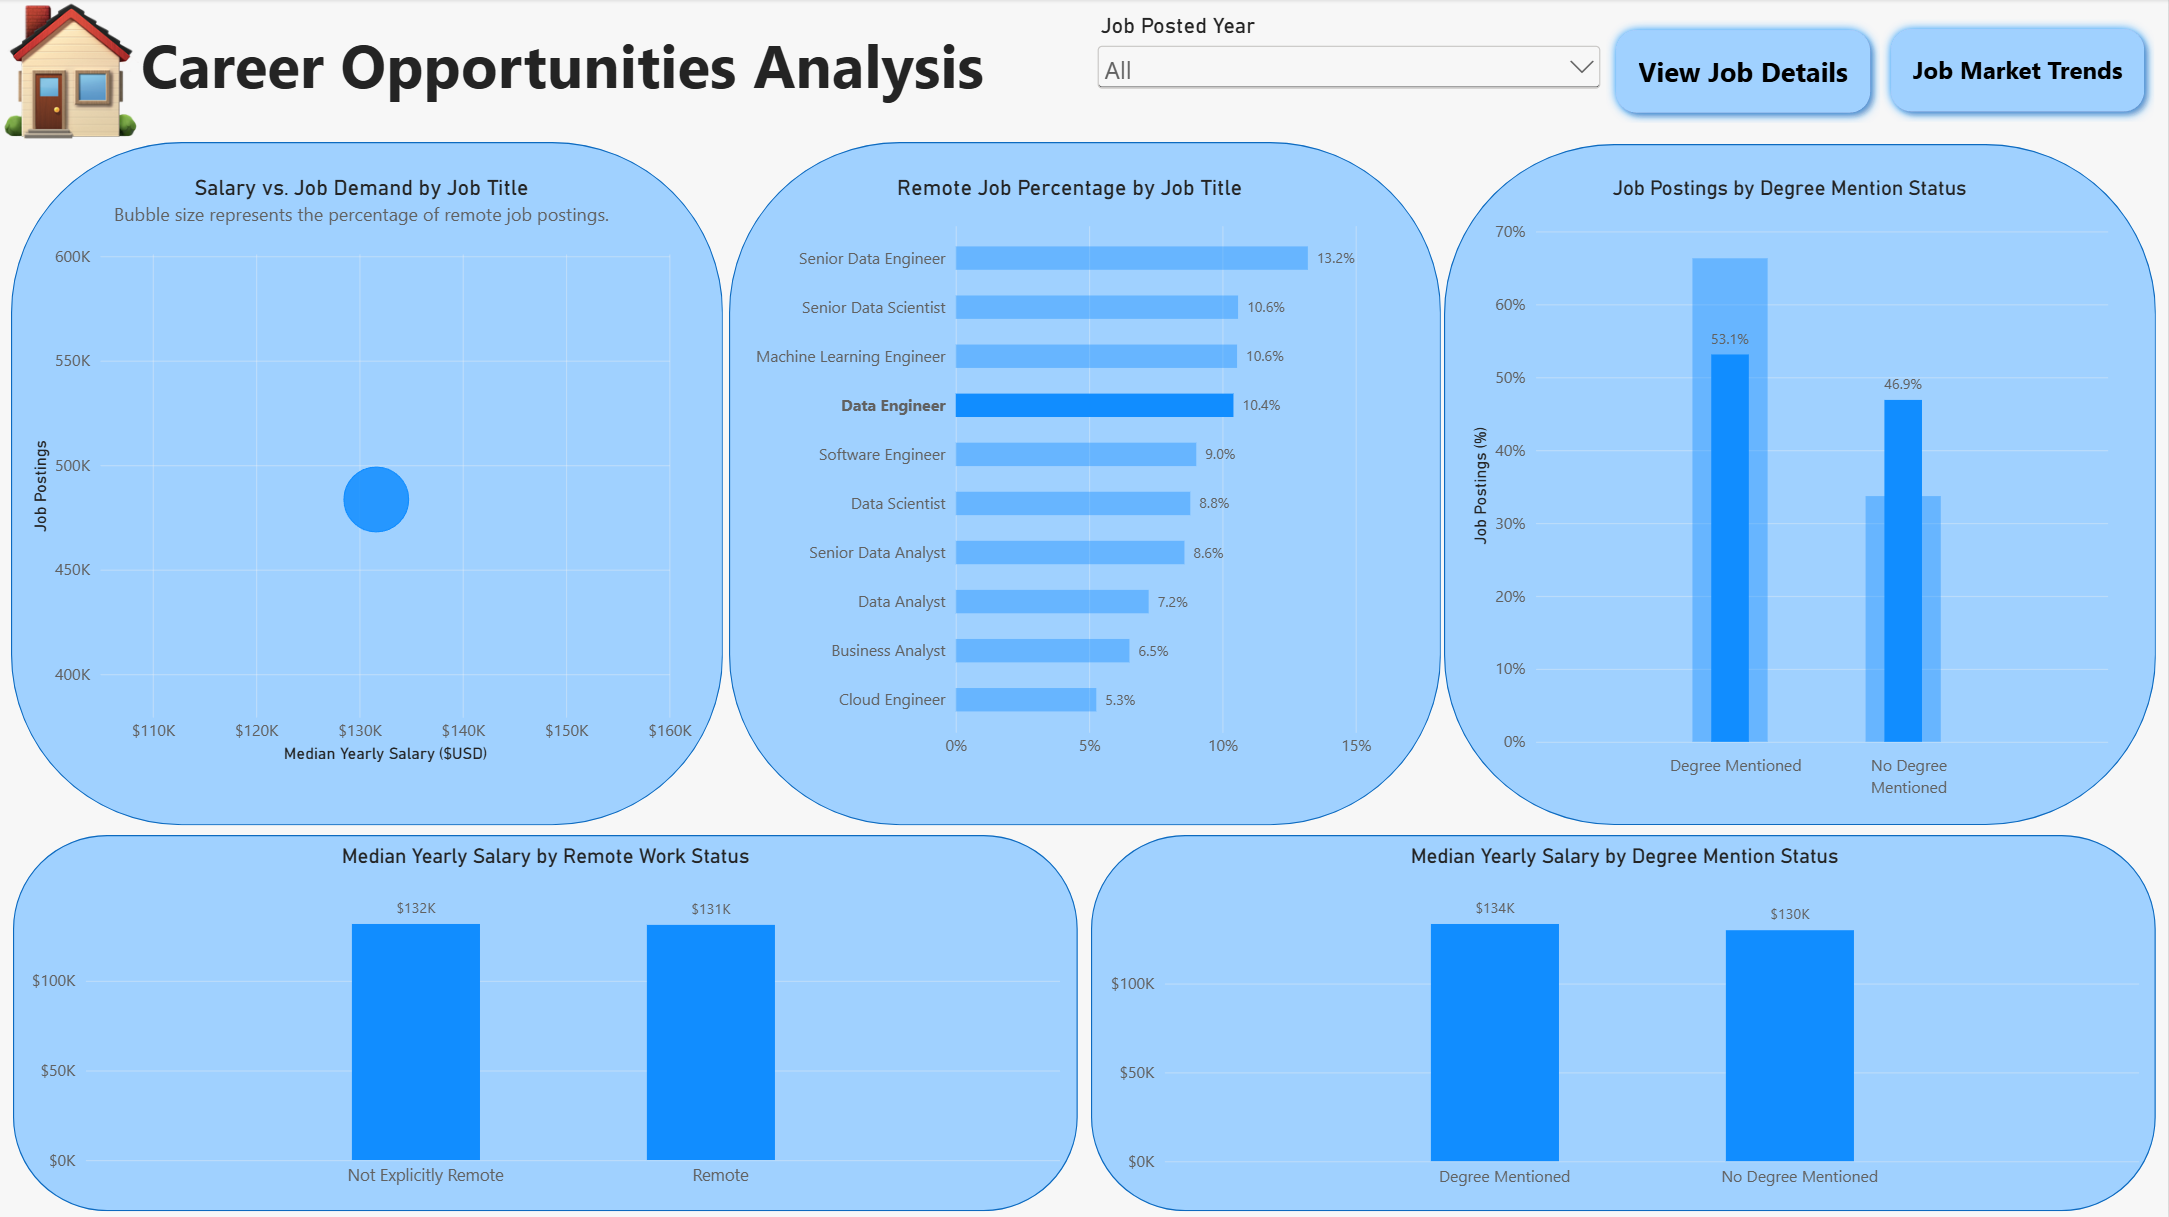

The dashboard page shown, as its layout file describes it:
{"tool":"powerbi","page":{"name":"Career Opportunities Analysis","canvas":[1920,1080],"ordinal":1},"visuals":[{"type":"group","id":"g1","title":"Background","box":[10.1,126.8,1898.9,946.7],"z":0},{"type":"shape","box":[10.1,126.8,630.3,604.9],"z":0,"group":"g1"},{"type":"scatterChart","title":"Salary vs. Job Demand by Job Title","fields":{"Category":["job_postings_flat.job_title_short"],"Size":["job_postings_flat.Remote Job %"],"X":["Median(job_postings_flat.salary_year_avg)"],"Y":["job_postings_flat.Job Count"]},"box":[11.9,141.3,617,550],"z":1000},{"type":"shape","box":[12.1,740.4,942.5,333],"z":1000,"group":"g1"},{"type":"shape","box":[645.4,126.8,630.3,604.9],"z":2000,"group":"g1"},{"type":"barChart","title":"Remote Job Percentage by Job Title","fields":{"Category":["job_postings_flat.job_title_short"],"Y":["job_postings_flat.Remote Job %"]},"box":[640.3,141.3,613.6,550.4],"z":2000},{"type":"shape","box":[1278.6,128.7,630.3,603],"z":3000,"group":"g1"},{"type":"columnChart","title":"Job Postings by Degree Mention Status","fields":{"Category":["job_postings_flat.Degree Mention Status"],"Y":["job_postings_flat.Job Count"]},"box":[1286.6,142.3,595.9,583],"z":3000},{"type":"columnChart","title":"Median Yearly Salary by Remote Work Status","fields":{"Category":["job_postings_flat.Remote Work Status"],"Y":["Median(job_postings_flat.salary_year_avg)"]},"box":[11.9,734.2,942.7,338.9],"z":4000},{"type":"shape","box":[966.4,740.4,942.5,333],"z":4000,"group":"g1"},{"type":"columnChart","title":"Median Yearly Salary by Degree Mention Status","fields":{"Category":["job_postings_flat.Degree Mention Status"],"Y":["Median(job_postings_flat.salary_year_avg)"]},"box":[966.4,734.2,942.7,338.9],"z":5000},{"type":"image","box":[0,0,125,126],"z":6000},{"type":"slicer","fields":{"Values":["job_postings_flat.job_title_short"]},"box":[966.7,12,455,110],"z":7000},{"type":"textbox","box":[125,20,778.4,87.4],"z":8000},{"type":"actionButton","box":[1422.1,18.2,242.9,91.1],"z":9000},{"type":"actionButton","box":[1665,18,242,91],"z":10000}]}

Visuals, with their boxes in screenshot pixels (x1, y1, x2, y2), scaled from the page's 1920x1080 canvas onto the 2169x1217 screenshot:
"Background" group: <bbox>11, 143, 2157, 1210</bbox>
shape: <bbox>11, 143, 723, 825</bbox>
"Salary vs. Job Demand by Job Title" scatterChart: <bbox>13, 159, 710, 779</bbox>
shape: <bbox>14, 834, 1078, 1210</bbox>
shape: <bbox>729, 143, 1441, 825</bbox>
"Remote Job Percentage by Job Title" barChart: <bbox>723, 159, 1417, 779</bbox>
shape: <bbox>1444, 145, 2156, 825</bbox>
"Job Postings by Degree Mention Status" columnChart: <bbox>1453, 160, 2127, 817</bbox>
"Median Yearly Salary by Remote Work Status" columnChart: <bbox>13, 827, 1078, 1209</bbox>
shape: <bbox>1092, 834, 2156, 1210</bbox>
"Median Yearly Salary by Degree Mention Status" columnChart: <bbox>1092, 827, 2157, 1209</bbox>
image: <bbox>0, 0, 141, 142</bbox>
slicer - job_postings_flat.job_title_short: <bbox>1092, 14, 1606, 137</bbox>
textbox: <bbox>141, 23, 1021, 121</bbox>
actionButton: <bbox>1607, 21, 1881, 123</bbox>
actionButton: <bbox>1881, 20, 2154, 123</bbox>
